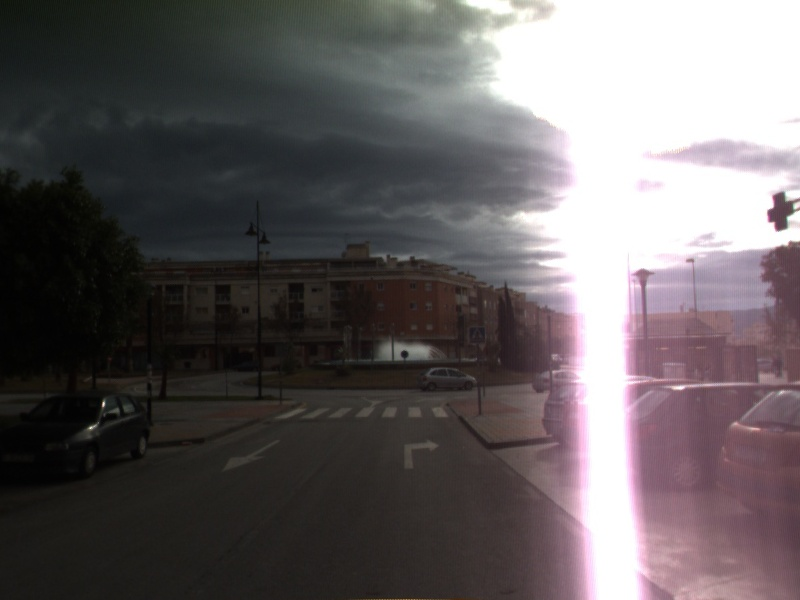RIGHT: (402, 437, 441, 471)
